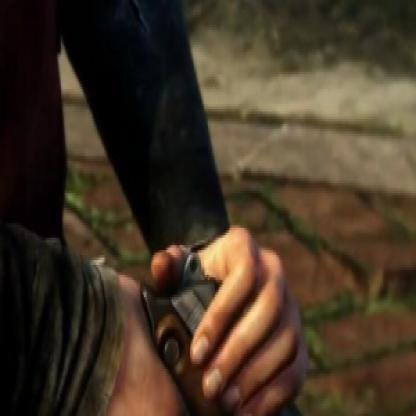gun: (7, 223, 395, 413)
